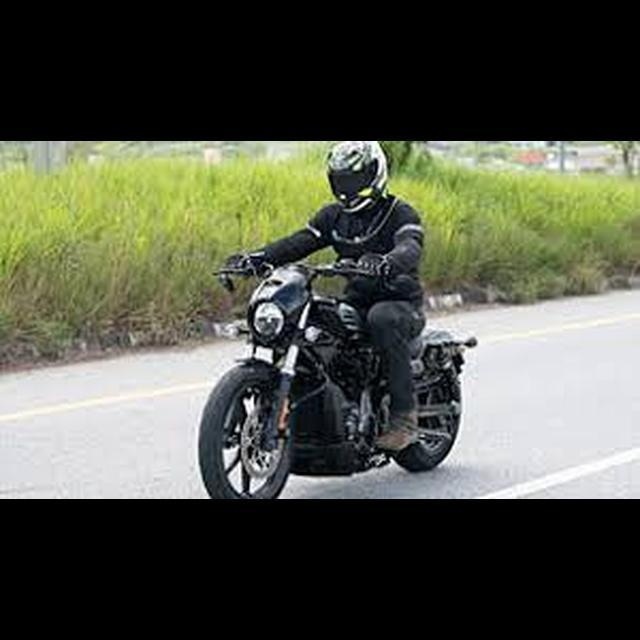motorcycle: (197, 241, 481, 501)
